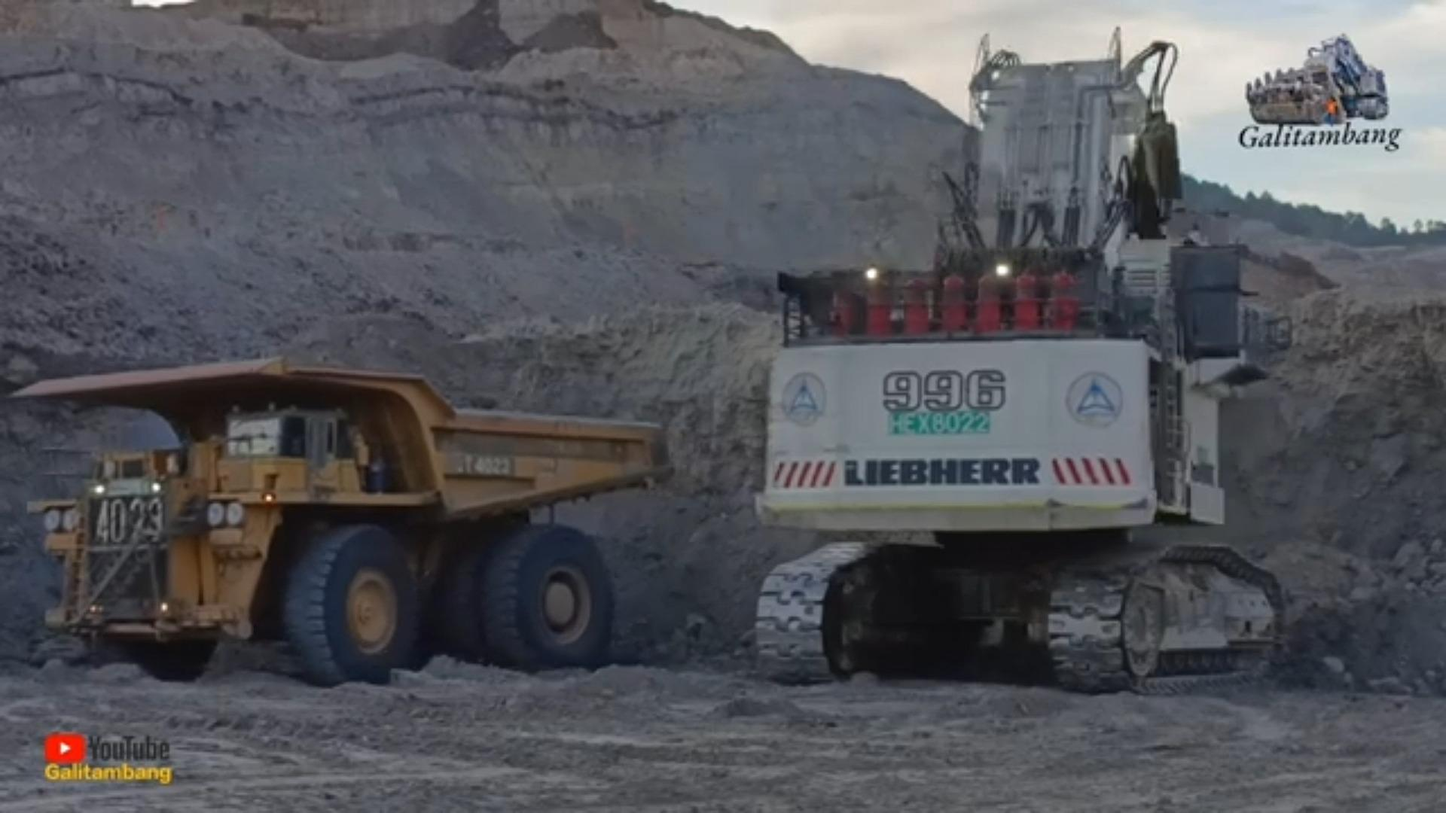Excavator: (755, 43, 1292, 693)
HD-Truck: (11, 357, 670, 686)
